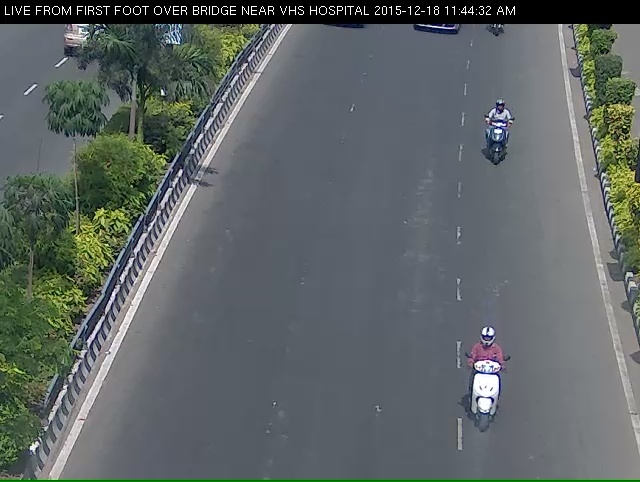Person: (458, 337, 522, 469), (477, 109, 519, 184)
